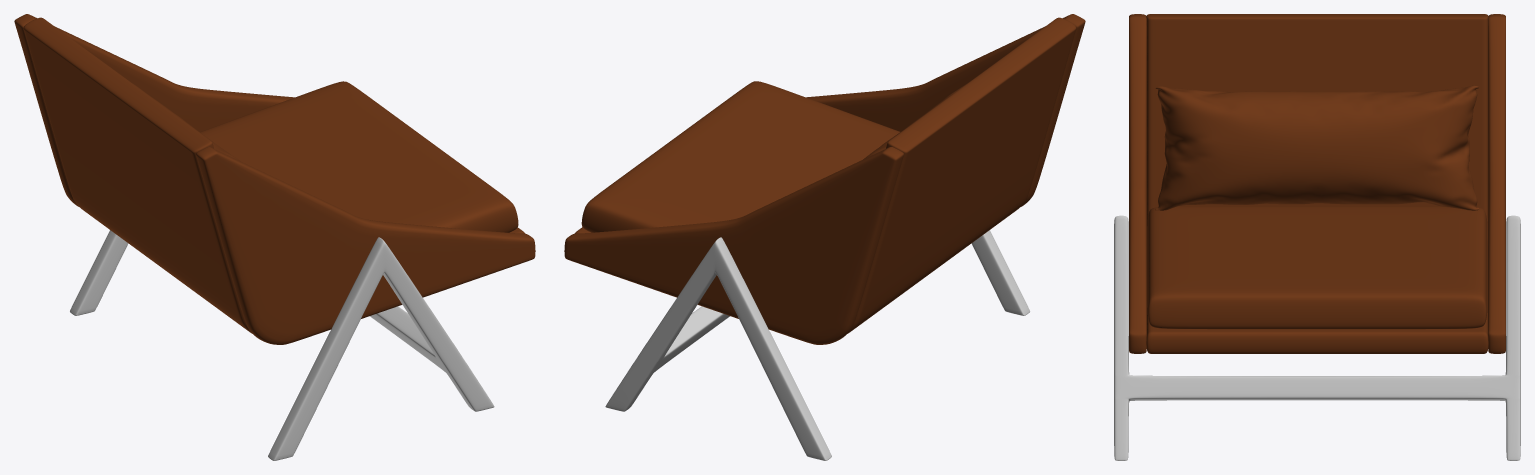
File: Chair.obj
The picture shows the model from 3 angles, left to right: view 1: azimuth 30°, elevation 25°; view 2: azimuth 150°, elevation 25°; view 3: azimuth 270°, elevation 25°; orthographic projection.
Visible parts, largest first — view 1: Chair_Plane.002; view 2: Chair_Plane.002; view 3: Chair_Plane.002.
Part boxes in pixels (x1,y1,x2,y2): Chair_Plane.002: [14, 14, 535, 460]; Chair_Plane.002: [564, 14, 1085, 460]; Chair_Plane.002: [1114, 14, 1520, 460].
Bounding box in the file's own units: 1.09 × 0.9891 × 1.16.
